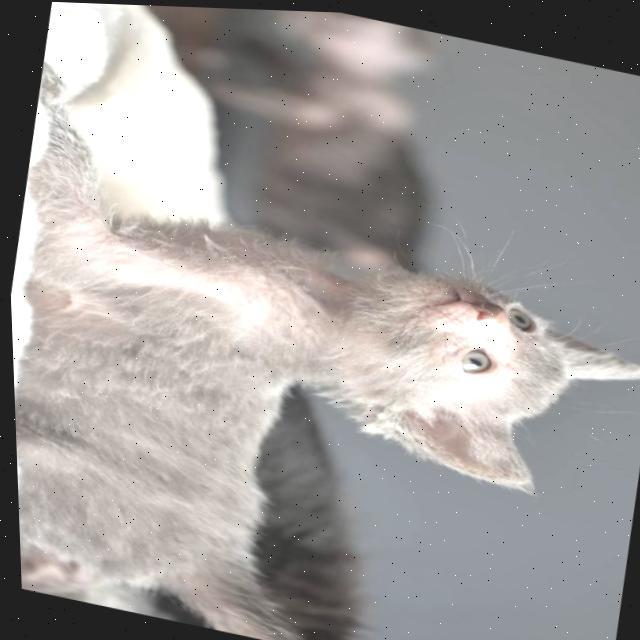Lykoi: (2, 59, 640, 640)
